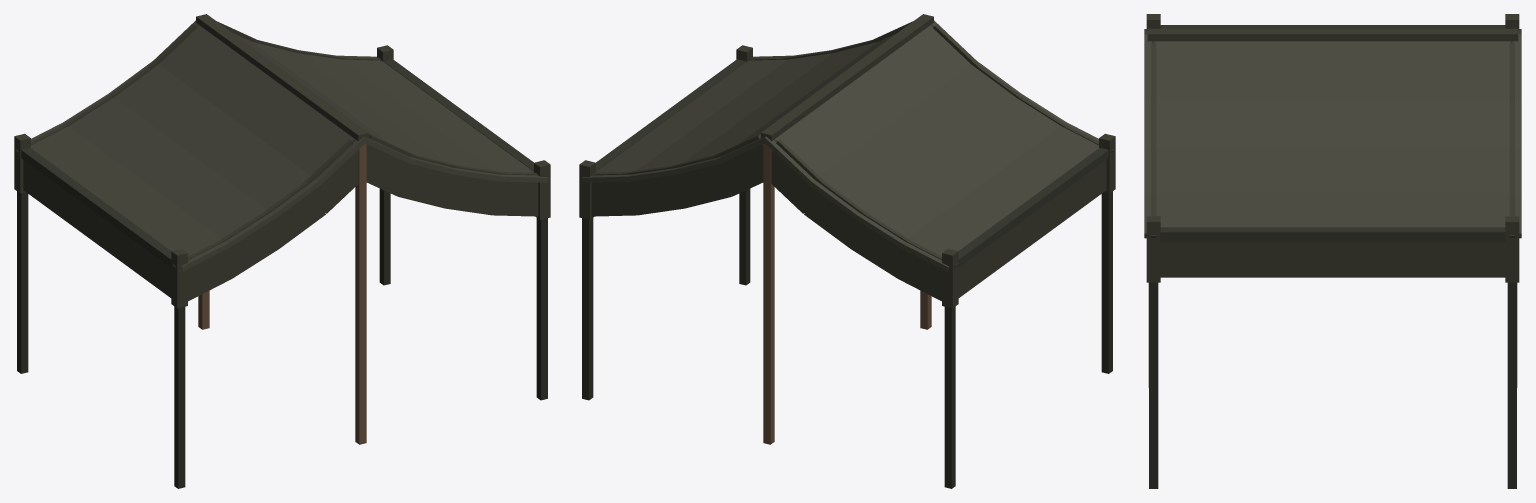
Rendered from CMU3DAU14PropTent5VehicleFinalCloud.glb.
The picture shows the model from 3 angles, left to right: view 1: azimuth 30°, elevation 25°; view 2: azimuth 150°, elevation 25°; view 3: azimuth 270°, elevation 25°; orthographic projection. The views are drawn at different scales.
Visible parts, largest first — view 1: canvas hanging end valance (×8), tensioned canvas roof band -1 0, tensioned canvas roof band -1 1, tensioned canvas roof band -1 2, tensioned canvas roof band -1 3, canopy corner pole (×4), tensioned canvas roof band 1 3, side canvas valance -1, tensioned canvas roof band 1 2, eave edge beam (×2), tensioned canvas roof band 1 1, center ridge support (+3 smaller); view 2: canvas hanging end valance (×8), tensioned canvas roof band -1 0, tensioned canvas roof band -1 1, tensioned canvas roof band -1 2, tensioned canvas roof band -1 3, canopy corner pole (×4), tensioned canvas roof band 1 3, side canvas valance -1, tensioned canvas roof band 1 2, eave edge beam (×2), tensioned canvas roof band 1 1, center ridge support (+3 smaller); view 3: tensioned canvas roof band 1 0, tensioned canvas roof band 1 1, tensioned canvas roof band 1 2, side canvas valance 1, tensioned canvas roof band 1 3, eave edge beam (×2), ridge beam, canopy corner pole (×2), corner pole canvas sleeve (×2).
Part boxes in pixels (<box>): canvas hanging end valance (×8): <box>172,134,538,301</box>; tensioned canvas roof band -1 0: <box>153,20,367,185</box>; tensioned canvas roof band -1 1: <box>108,60,321,218</box>; tensioned canvas roof band -1 2: <box>63,94,276,247</box>; tensioned canvas roof band -1 3: <box>31,122,230,271</box>; canopy corner pole (×4): <box>17,188,547,488</box>; tensioned canvas roof band 1 3: <box>337,55,548,182</box>; side canvas valance -1: <box>23,160,171,297</box>; tensioned canvas roof band 1 2: <box>297,50,502,181</box>; eave edge beam (×2): <box>21,59,533,267</box>; tensioned canvas roof band 1 1: <box>252,42,457,175</box>; center ridge support: <box>355,143,366,444</box>; canvas hanging end valance (×8): <box>591,134,957,301</box>; tensioned canvas roof band -1 0: <box>762,20,976,185</box>; tensioned canvas roof band -1 1: <box>808,60,1021,219</box>; tensioned canvas roof band -1 2: <box>853,94,1066,248</box>; tensioned canvas roof band -1 3: <box>899,122,1098,271</box>; canopy corner pole (×4): <box>582,188,1112,488</box>; tensioned canvas roof band 1 3: <box>581,55,792,182</box>; side canvas valance -1: <box>958,160,1106,297</box>; tensioned canvas roof band 1 2: <box>627,50,832,181</box>; eave edge beam (×2): <box>596,59,1108,267</box>; tensioned canvas roof band 1 1: <box>672,42,877,175</box>; center ridge support: <box>763,143,774,444</box>; tensioned canvas roof band 1 0: <box>1144,34,1521,97</box>; tensioned canvas roof band 1 1: <box>1144,97,1521,147</box>; tensioned canvas roof band 1 2: <box>1144,148,1521,192</box>; side canvas valance 1: <box>1160,241,1505,277</box>; tensioned canvas roof band 1 3: <box>1144,193,1521,238</box>; eave edge beam (×2): <box>1160,25,1505,241</box>; ridge beam: <box>1147,28,1518,41</box>; canopy corner pole (×2): <box>1149,282,1516,488</box>; corner pole canvas sleeve (×2): <box>1146,216,1519,282</box>.
Bounding box in the file's own units: 2.89 × 2.29 × 2.21.
